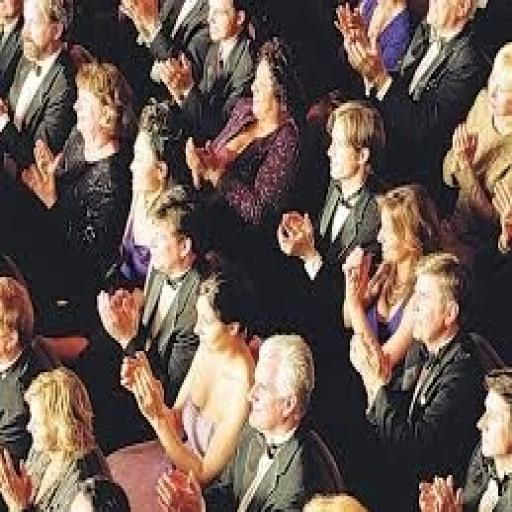clapping: (236, 68, 438, 338), (102, 221, 278, 507), (316, 252, 496, 512), (304, 144, 487, 388), (148, 321, 355, 512), (74, 130, 224, 385), (188, 18, 306, 251)
